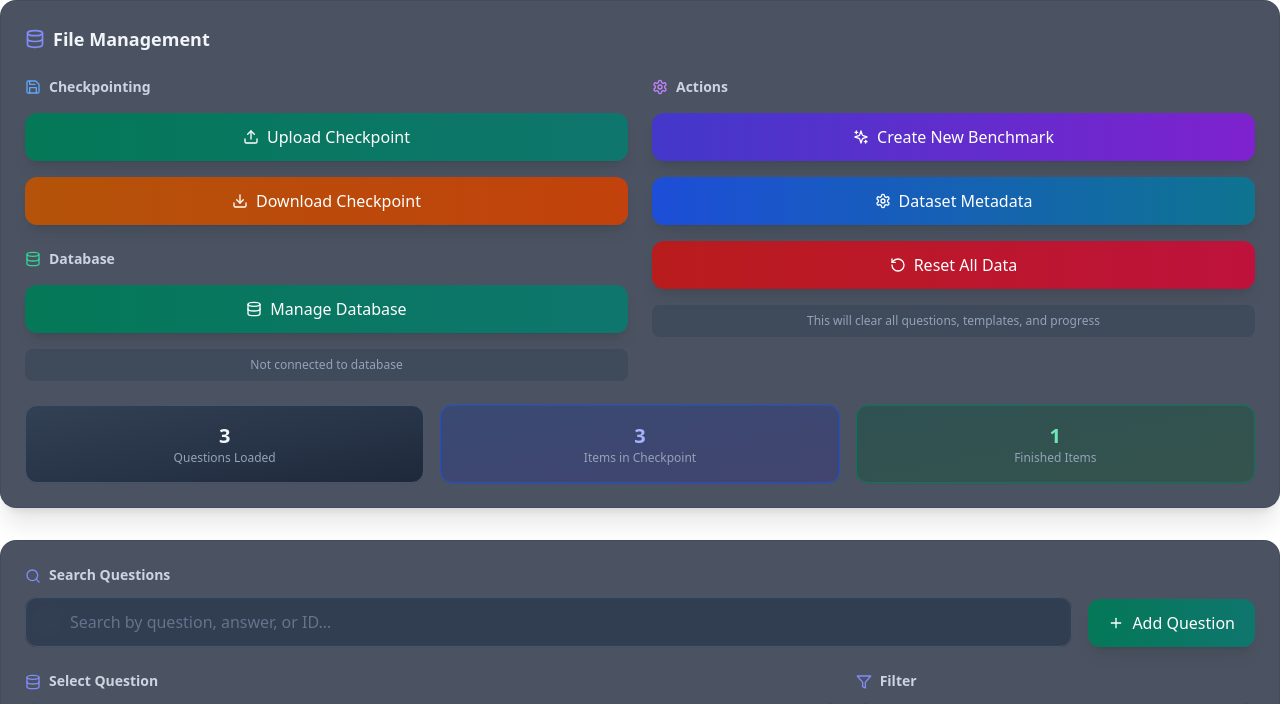
Question Navigation Integration Tests › integ-011: Question search and filter by status › should search questions by answer text
Note: Enter search term that matches answer
Type "4" into the field with placeholder "Search by question, answer, or ID..." at x=549, y=622, box [25,597,1072,647]
(page scrolled)
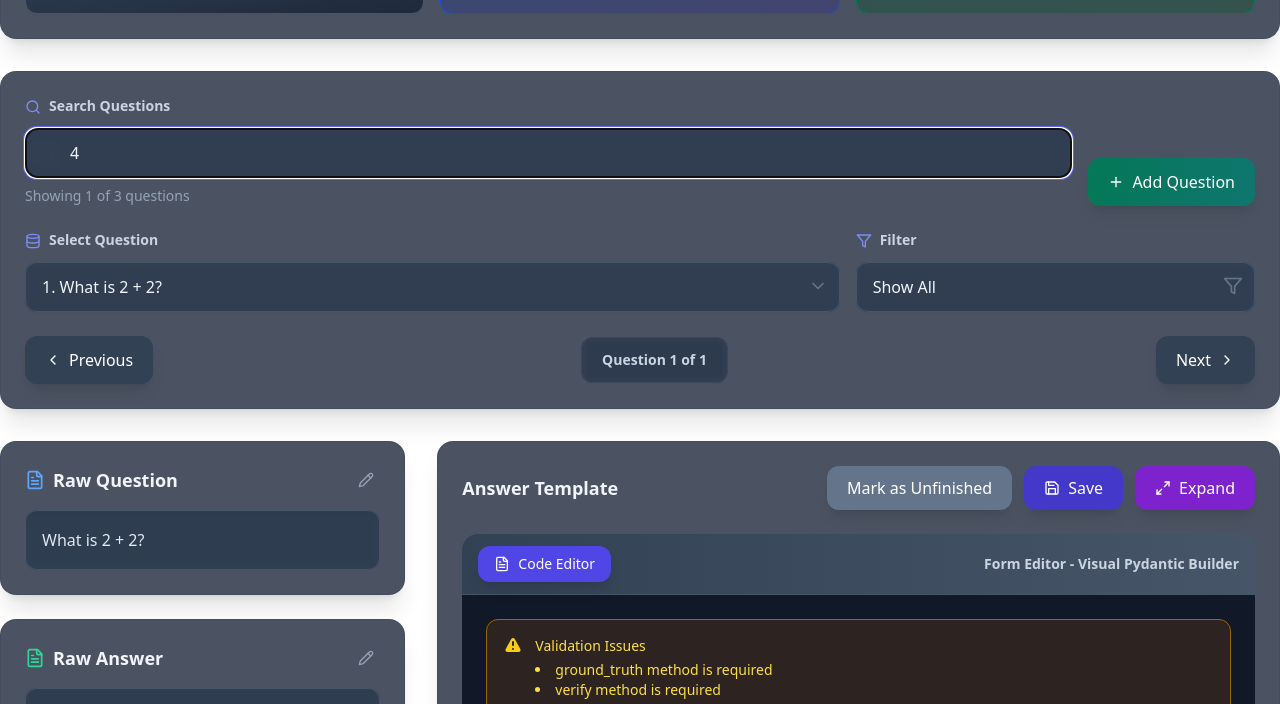
expect the text "Question 1 of 1" is shown: met, box [602,350,707,370]
